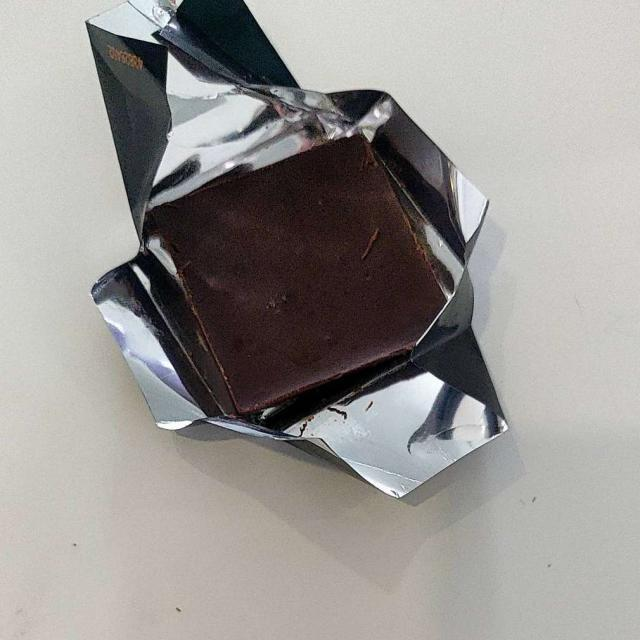chocolate: (104, 36, 466, 422)
